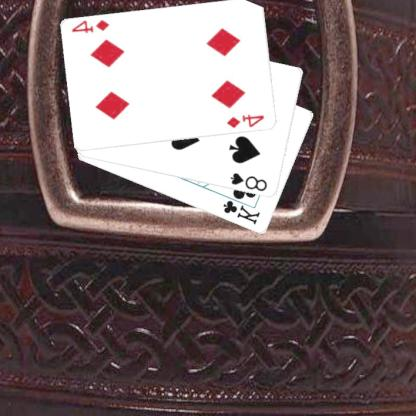4D: (226, 112, 268, 130), (71, 17, 113, 35)
8S: (229, 170, 270, 193)
KC: (222, 192, 263, 226)
